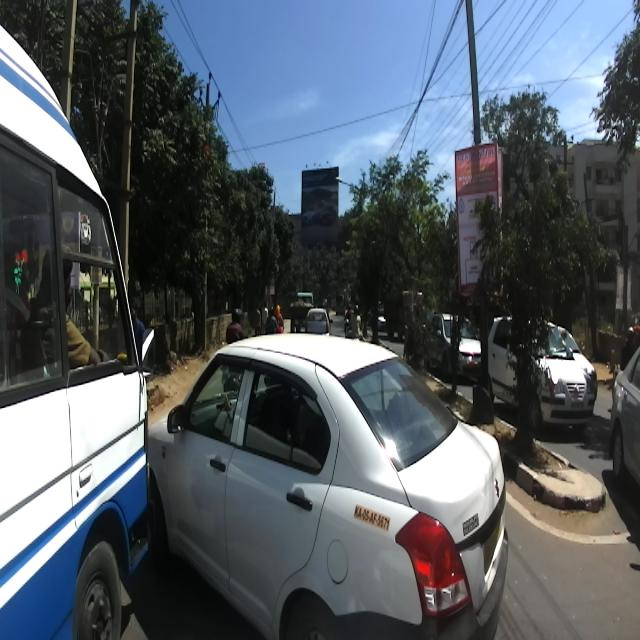bus ahead at: (1, 6, 149, 640)
car ahead at: (142, 315, 516, 640)
